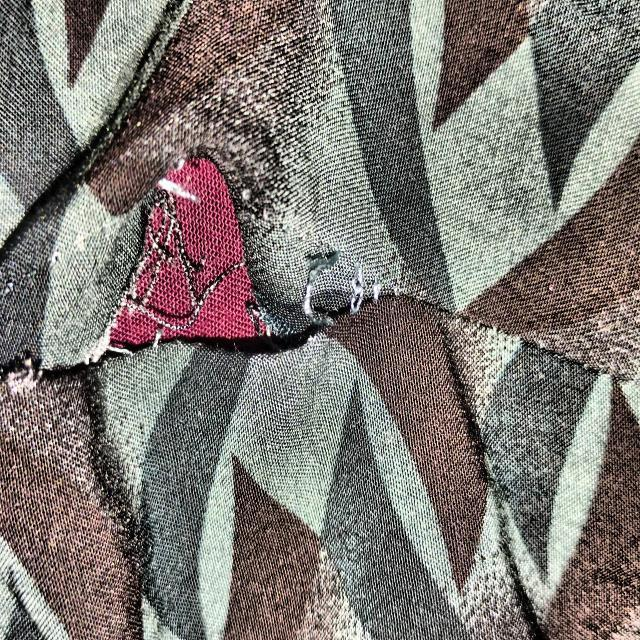cut: (82, 145, 447, 387)
